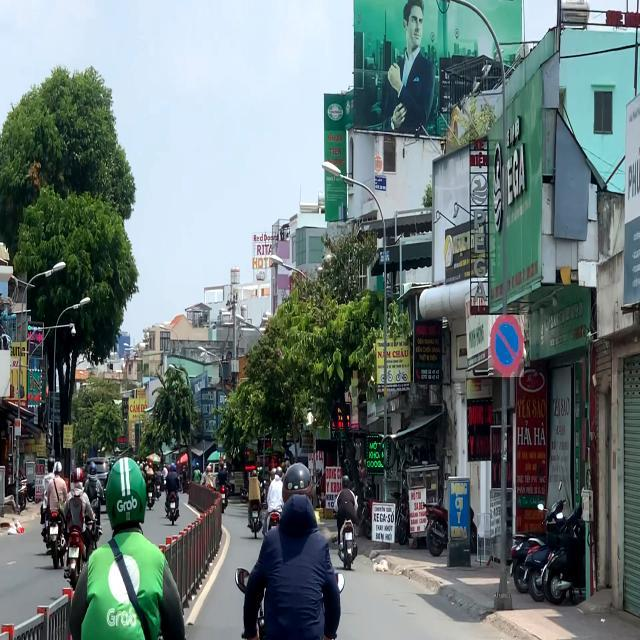P-131a: (488, 316, 524, 378)
